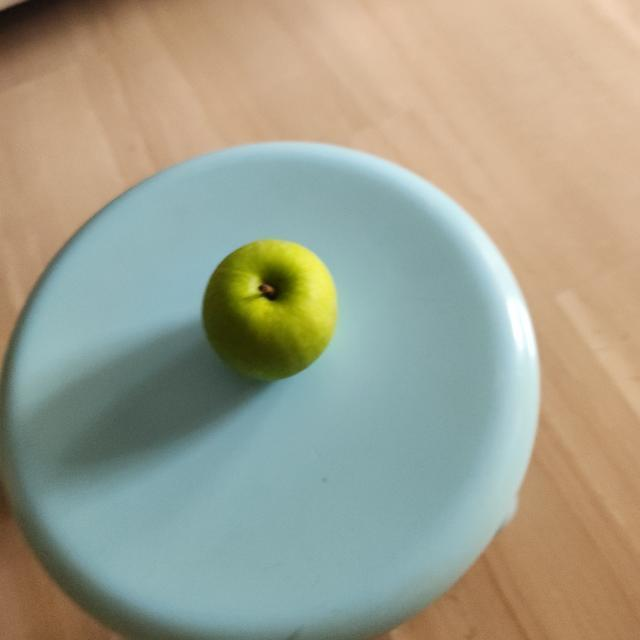apple: (201, 233, 340, 396)
